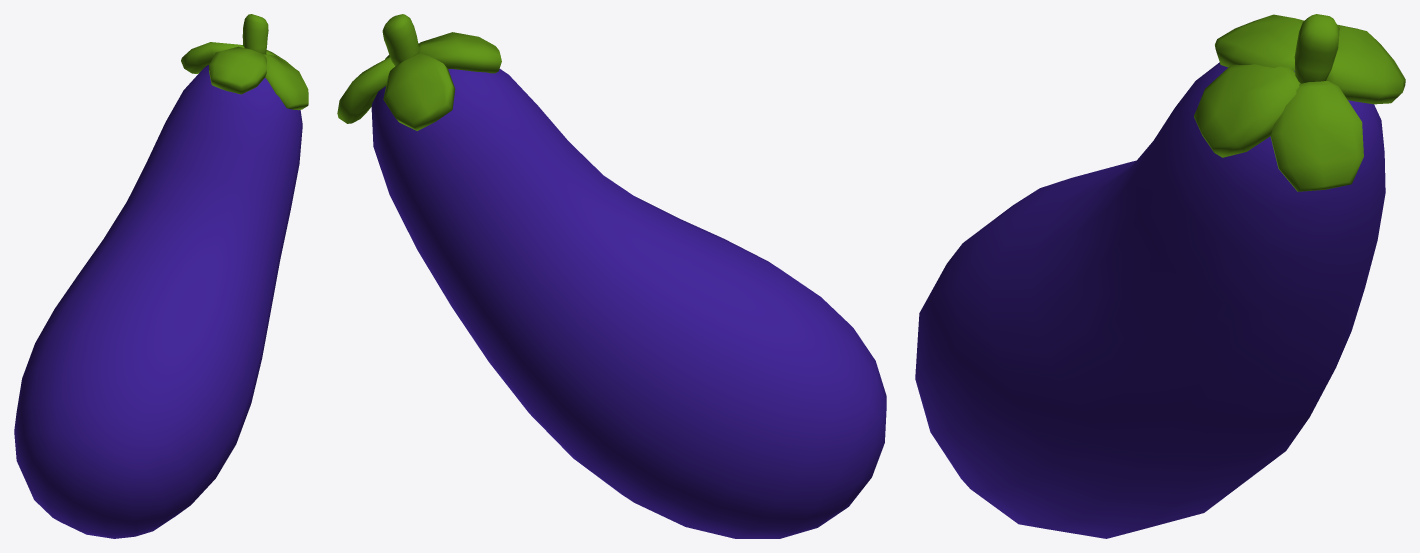
Rendered from eggPlant.glb.
3 renders of one model, left to right at view 1: azimuth 30°, elevation 25°; view 2: azimuth 150°, elevation 25°; view 3: azimuth 270°, elevation 25°, orthographic. The views are drawn at different scales.
Parts seen in each view (by area): view 1: Cube.238; view 2: Cube.238; view 3: Cube.238.
Part boxes in pixels (x1=…): Cube.238: x1=14, y1=14, x2=308, y2=538; Cube.238: x1=337, y1=14, x2=886, y2=538; Cube.238: x1=915, y1=14, x2=1405, y2=538.
Bounding box in the file's own units: 1.64 × 1.85 × 1.23.
